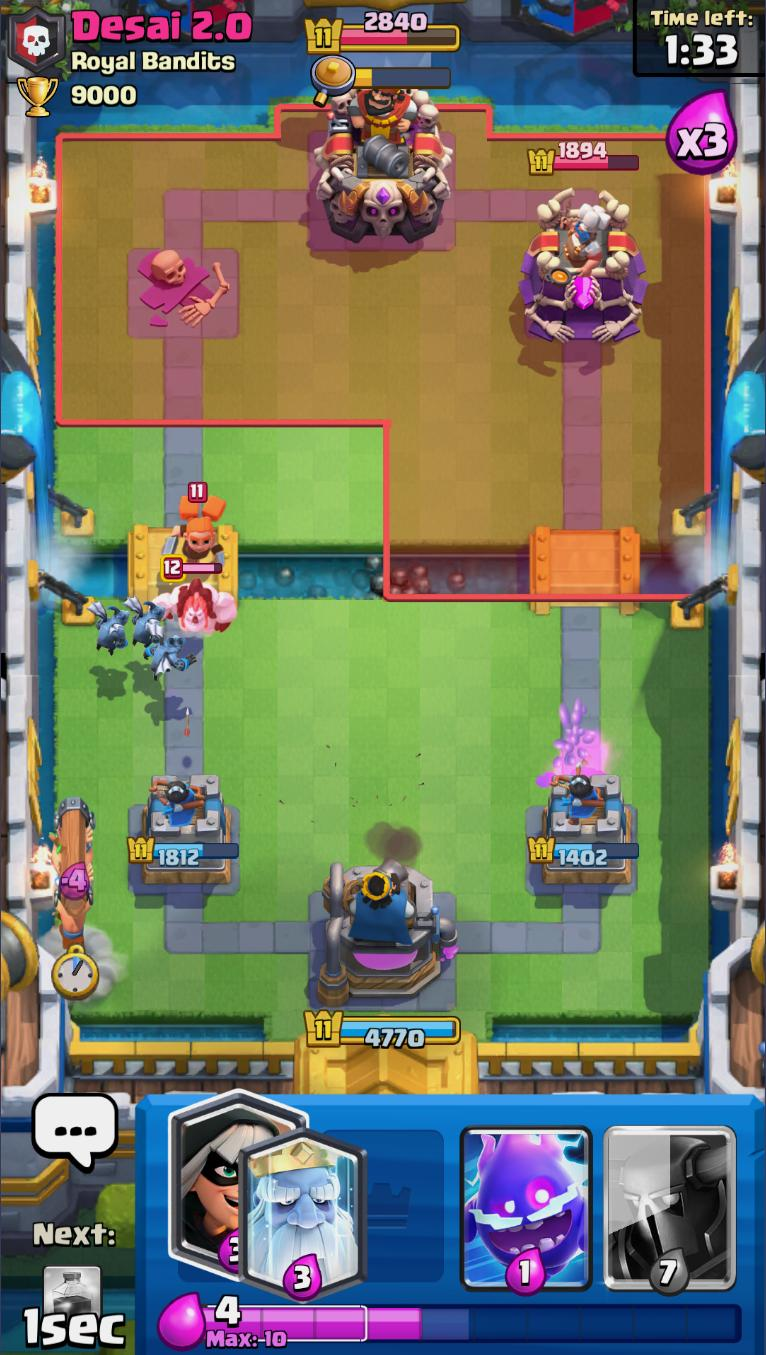BanditDeck: (166, 1091, 313, 1283)
Berserker: (161, 481, 228, 566)
Chef: (553, 198, 616, 277)
ElectroSpiritDeck: (455, 1096, 598, 1295)
Elixir: (204, 1293, 747, 1350)
Empty: (361, 1098, 451, 1296)
EnemyTower: (517, 186, 649, 348)
EnemyTowerBrocken: (122, 240, 243, 340)
IceGolem: (148, 556, 239, 638)
KingTower: (312, 82, 455, 245)
KingTowerHP: (303, 9, 463, 56)
MyBattleRam: (49, 796, 96, 954)
MyKingHP: (300, 1006, 462, 1051)
MyKingTower: (316, 851, 462, 1009)
MyMinion: (143, 629, 198, 682), (83, 597, 132, 653), (121, 593, 167, 651)
MyPrincessTower: (125, 770, 242, 892), (528, 775, 639, 894)
MyPrincessTowerHP: (528, 833, 642, 869), (128, 834, 244, 868)
PekkaDeck: (601, 1096, 741, 1296)
RageNext: (41, 1264, 103, 1315)
RoyaleGhostDeck: (238, 1132, 364, 1302)
TowerPrincessHP: (527, 140, 643, 179)
